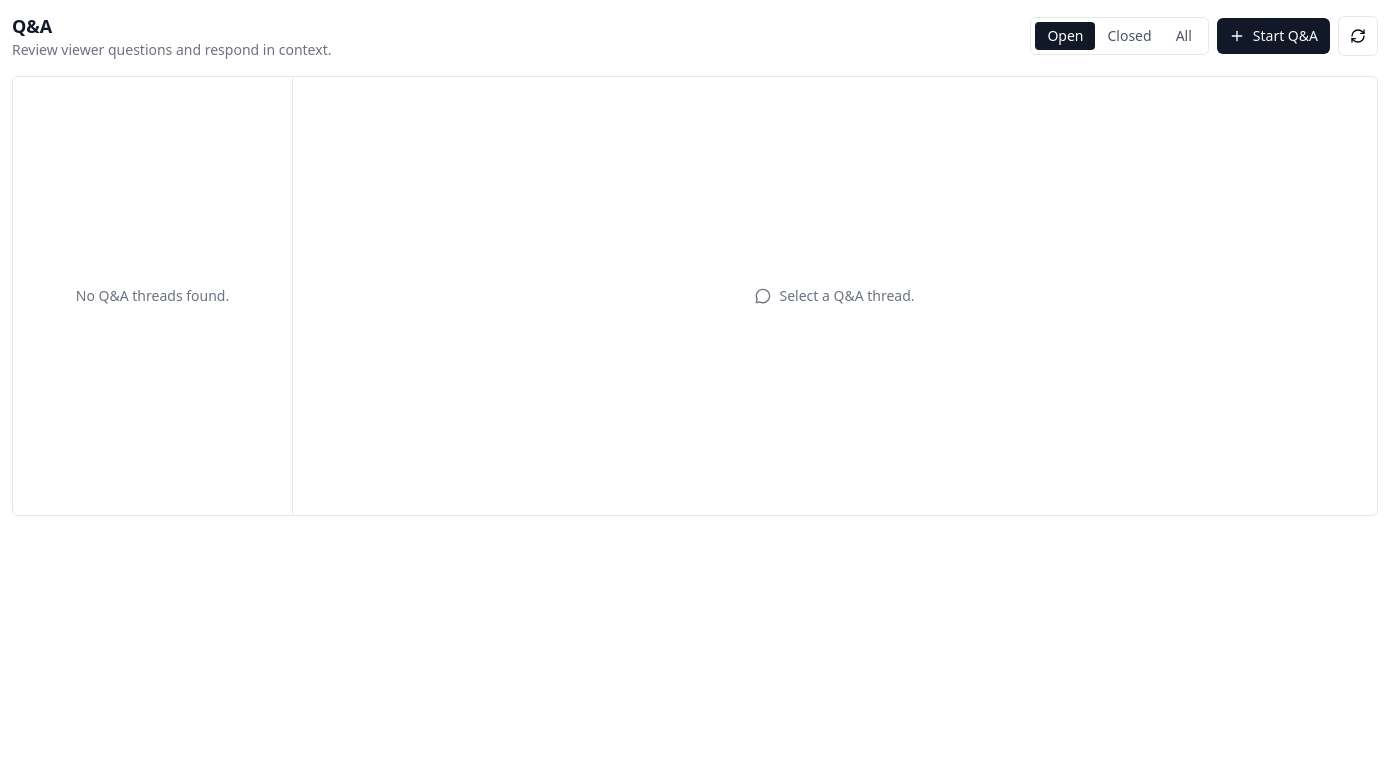
Test: OwnerQnAManager › disables owner-created Q&A when no share links exist
The width and height of the screenshot is (1390, 780).
expect the text "No Q&A threads found." is shown: met, box [76,286,229,305]
Click the button "Start Q&A" at (1273, 36), box [1217,18,1330,54]
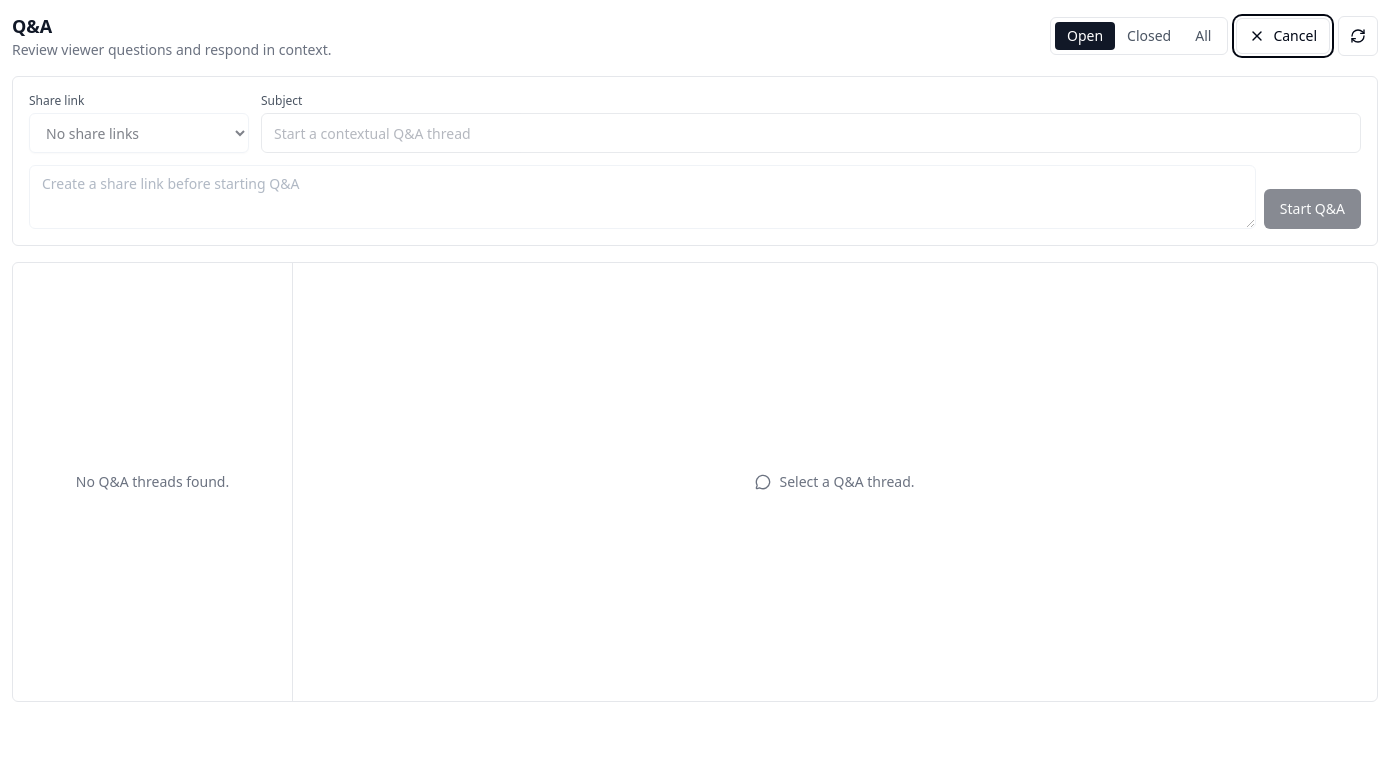
expect the dropdown named "Owner Q&A share link" is disabled: met, box [29,113,249,153]
expect the field named "Owner Q&A subject" is disabled: met, box [261,113,1361,153]
expect the text box with placeholder "Create a share link before starting Q&A" is disabled: met, box [29,165,1256,229]
